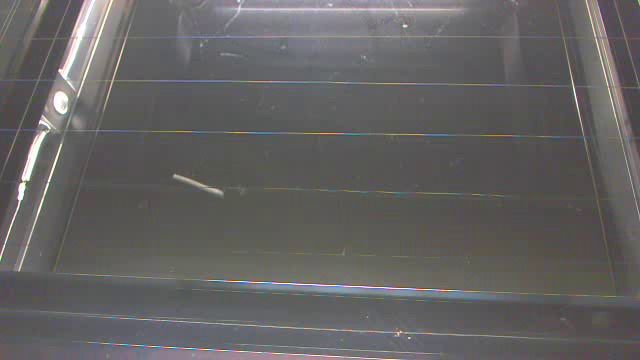alpha: (171, 174, 224, 197)
